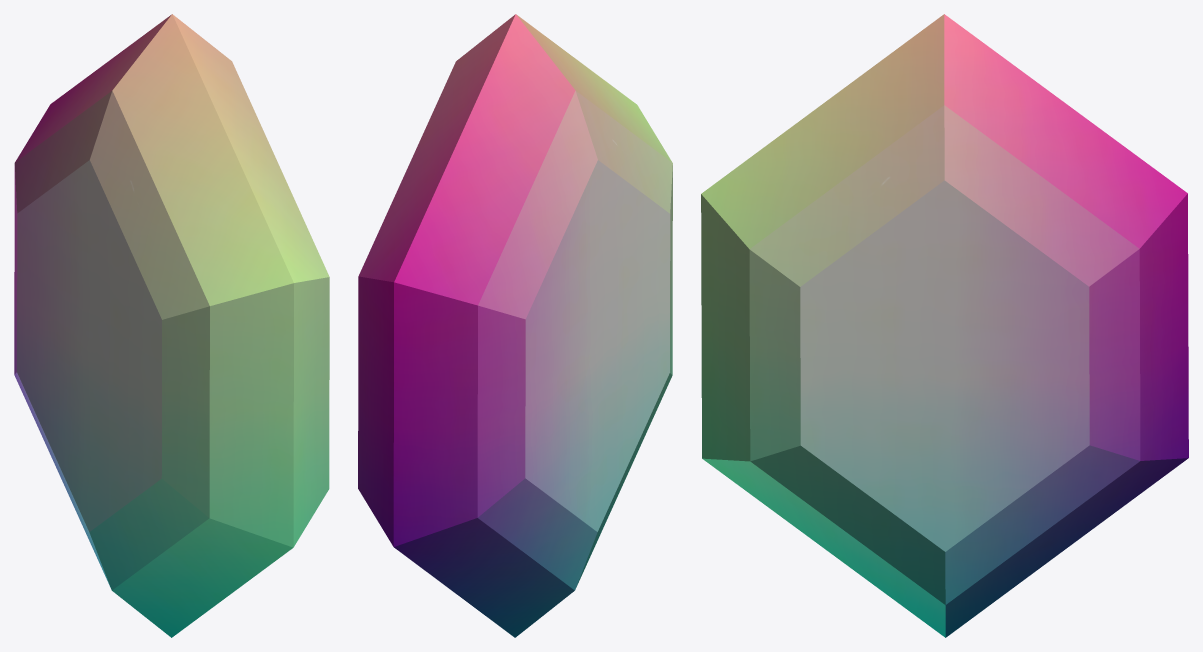
Rendered from Diamond_1.fbx.
The picture shows the model from 3 angles, left to right: view 1: azimuth 30°, elevation 25°; view 2: azimuth 150°, elevation 25°; view 3: azimuth 270°, elevation 25°; orthographic projection.
Visible parts, largest first — view 1: Diamond_1; view 2: Diamond_1; view 3: Diamond_1.
Part boxes in pixels (x1,y1,x2,y2): Diamond_1: [14, 14, 329, 637]; Diamond_1: [358, 14, 672, 637]; Diamond_1: [701, 14, 1188, 637].
Bounding box in the file's own units: 42.17 × 153 × 108.
